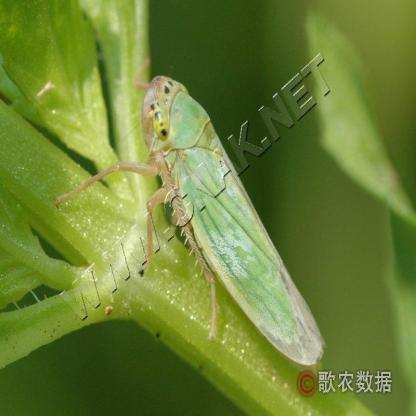Green-Leafhopper: (56, 64, 327, 364)
